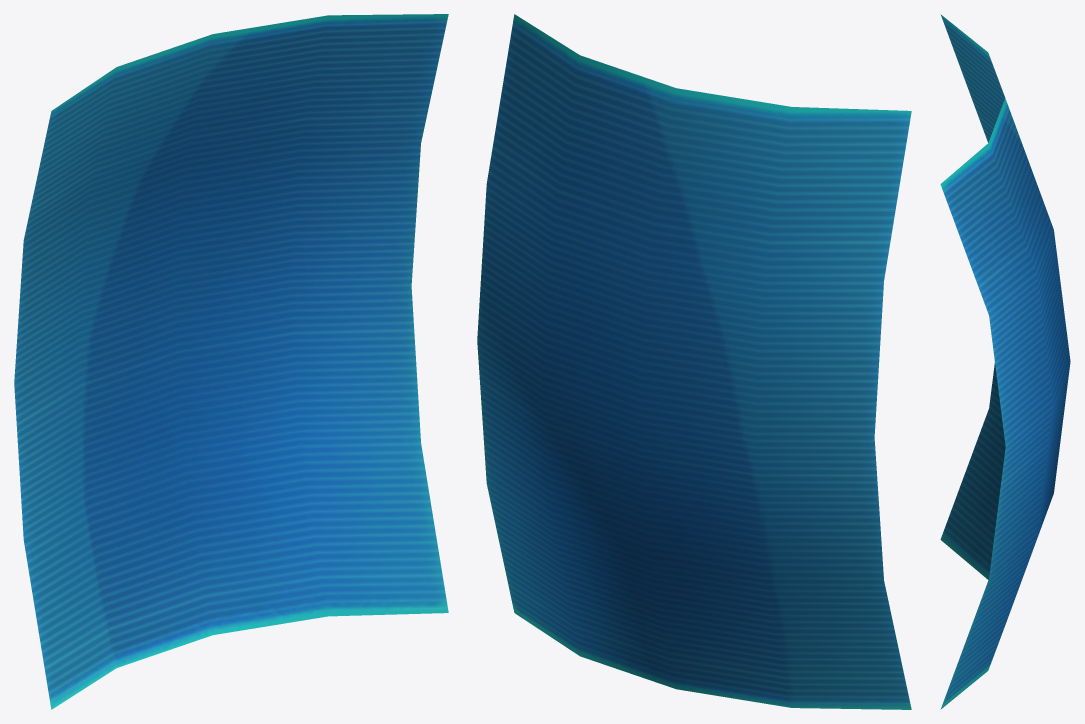
Rendered from dun01.FBX.
3 views of the same model, side by side, from view 1: azimuth 30°, elevation 25°; view 2: azimuth 150°, elevation 25°; view 3: azimuth 270°, elevation 25° (orthographic). The views are drawn at different scales.
Visible parts, largest first — view 1: dun01; view 2: dun01; view 3: dun01.
Boxes of the visible parts, bbox=[...] form: dun01: bbox=[14, 14, 448, 709]; dun01: bbox=[477, 14, 911, 709]; dun01: bbox=[940, 14, 1070, 709].
Bounding box in the file's own units: 2.27 × 3.28 × 0.7338.
